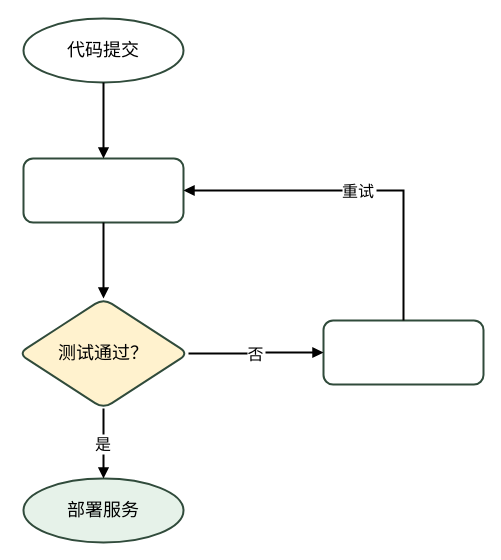
Some shapes in this 501 by 560 pixel diagram are drawn without their labels. The shapes that lost their labels are listed below. From the top down, each one's box as (x1, y1, x2, y2) in pixels, then its label:
(22, 157, 184, 223): 运行测试
(322, 319, 484, 385): 修复代码
